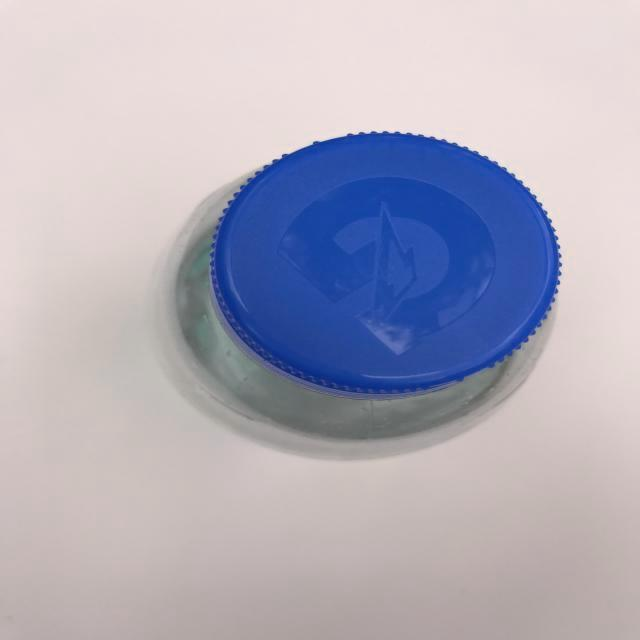plastic: (180, 128, 579, 416)
